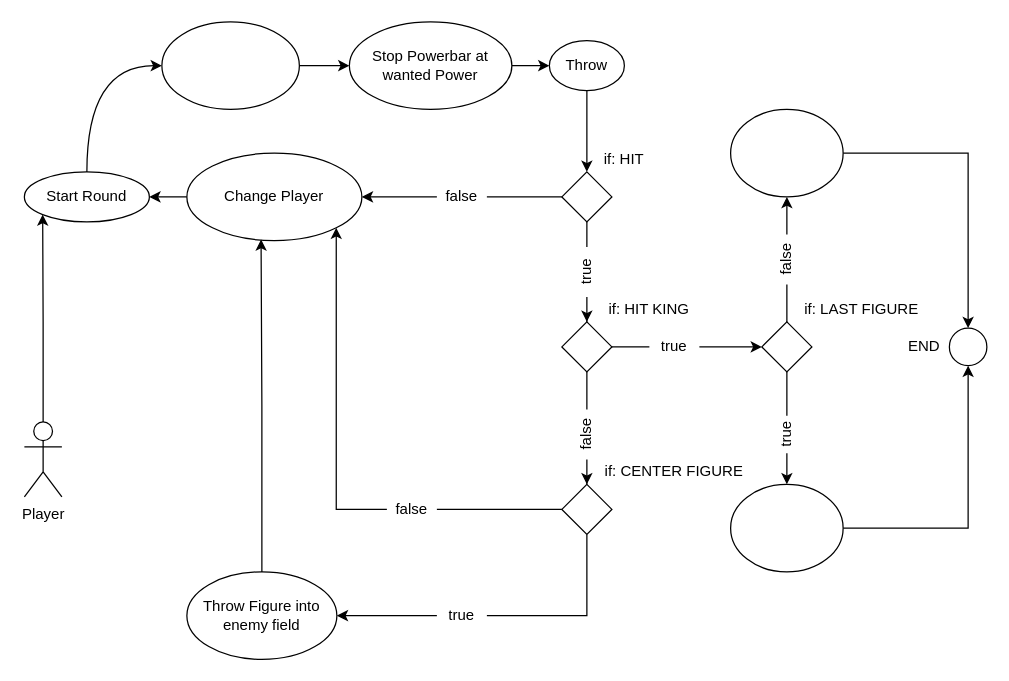
Some shapes in this 1009 by 681 pixel diagram are drawn without their labels. Here are the shapes that lost their labels. From the top down, the centre of each, then its label:
At (230,65): "Stop Aimassist at wanted Angle".
At (786,152): "Current Player lost".
At (786,527): "Current Player won".
